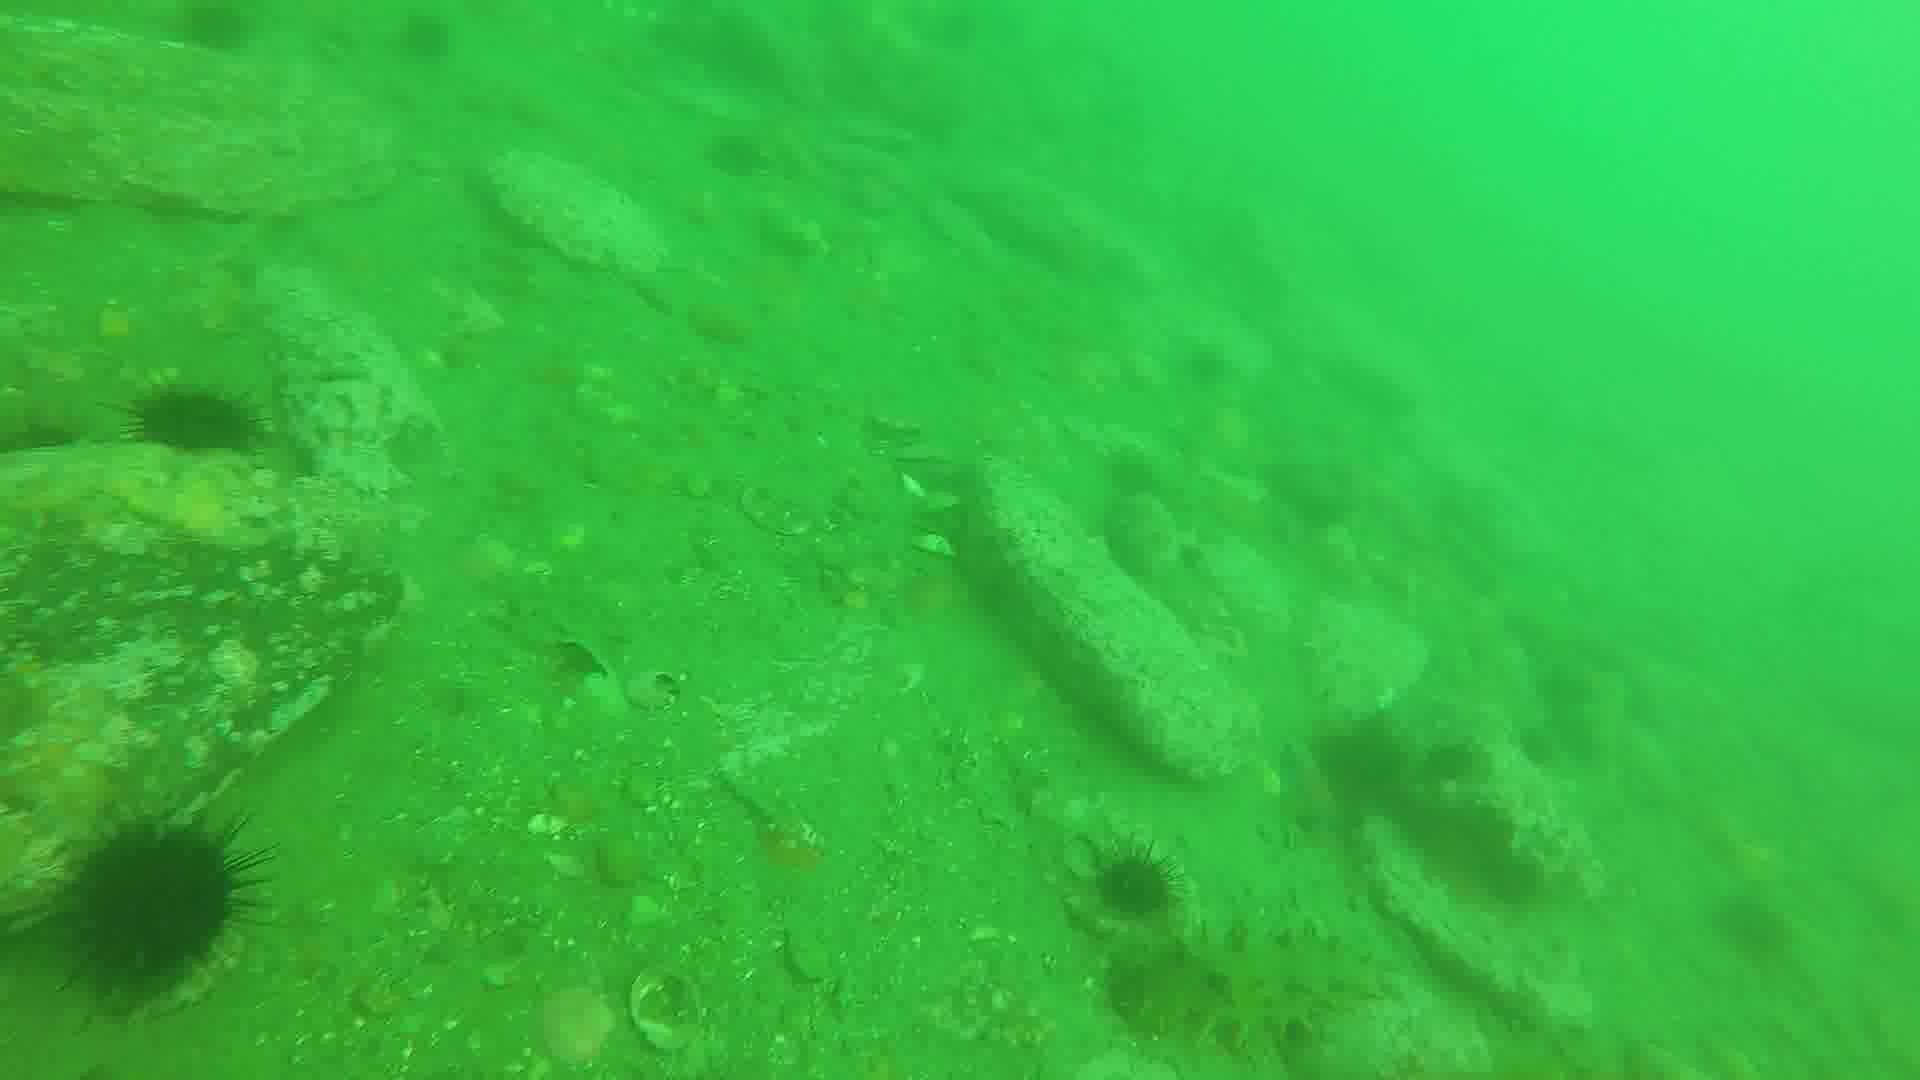echinus: (61, 812, 245, 998), (131, 380, 264, 465), (1098, 848, 1180, 920), (181, 1, 256, 47), (406, 9, 448, 54)
holothurian: (1114, 928, 1385, 1042)
scallop: (626, 961, 712, 1056), (535, 978, 618, 1073)
